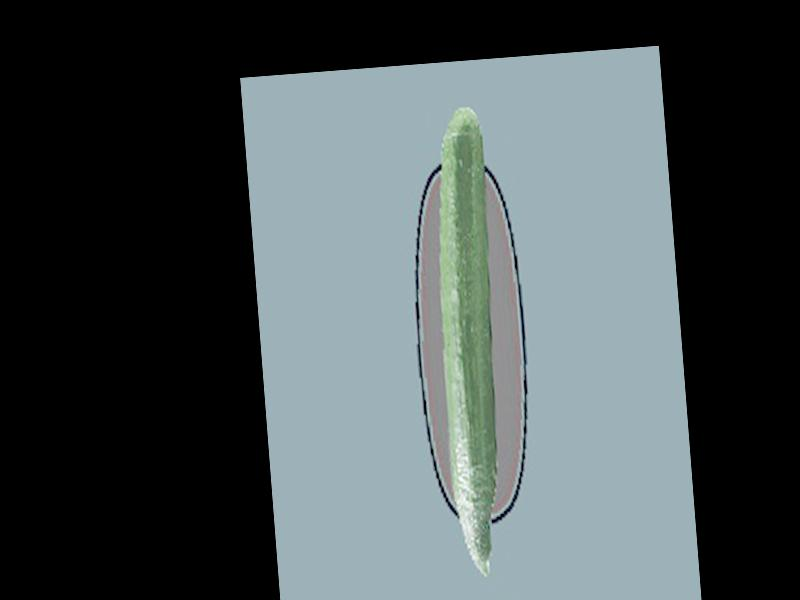Cucumber: (424, 104, 518, 578)
